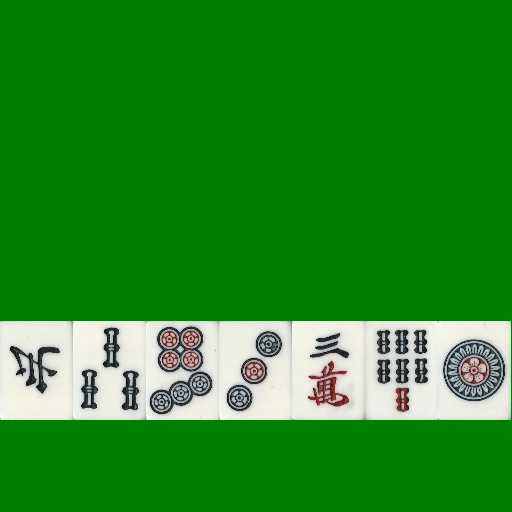1p: (438, 321, 511, 420)
3m: (292, 321, 365, 420)
3p: (219, 321, 292, 420)
3s: (73, 321, 146, 420)
7p: (146, 321, 219, 420)
7s: (365, 321, 438, 420)
north: (0, 321, 73, 420)
